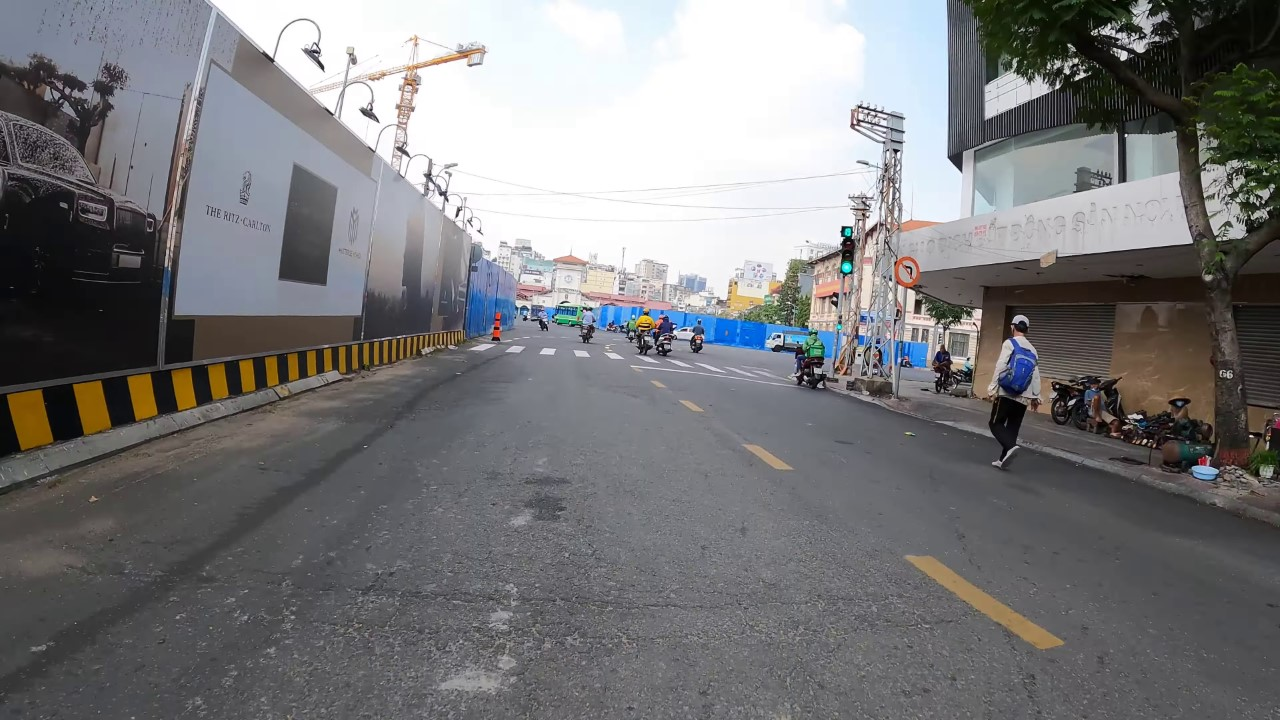cam_re_trai: (892, 254, 921, 290)
